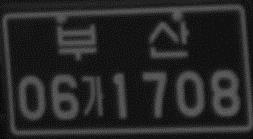0: (173, 68, 207, 119), (17, 73, 47, 120)
1: (109, 70, 130, 120)
6: (50, 72, 79, 119)
7: (139, 68, 170, 121)
8: (208, 67, 243, 119)
가: (78, 73, 107, 119)
부산_D: (54, 19, 191, 61)
